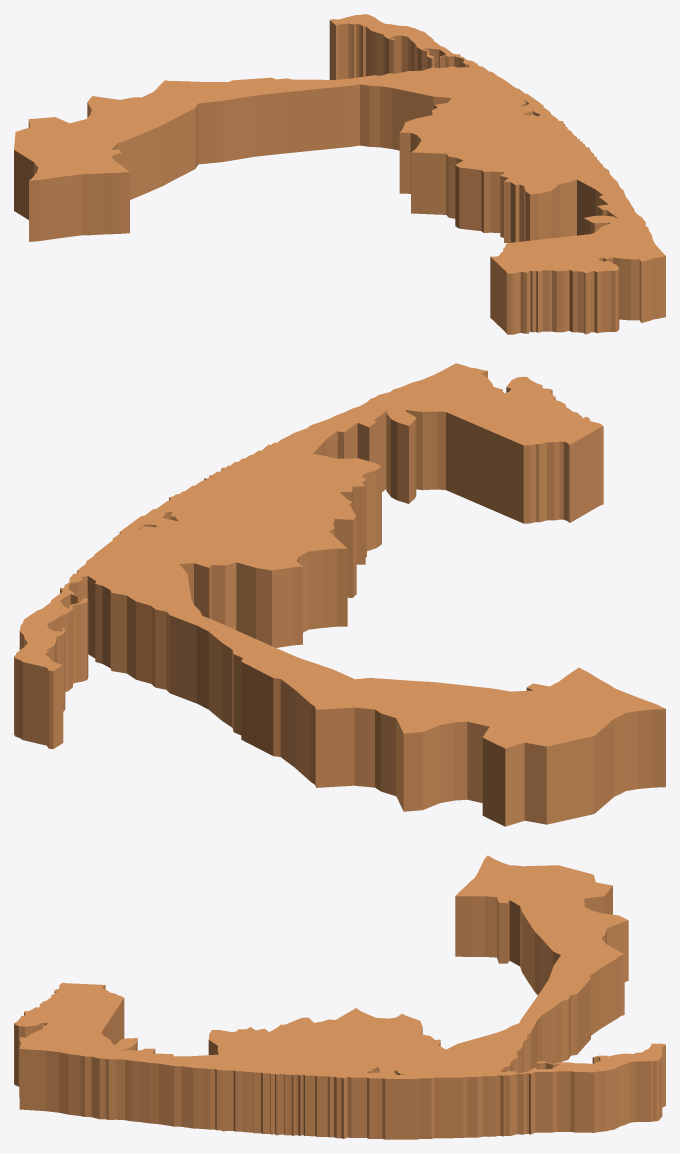
Rendered from monmouth.glb.
The picture shows the model from 3 angles, top to bottom: view 1: azimuth 30°, elevation 25°; view 2: azimuth 150°, elevation 25°; view 3: azimuth 270°, elevation 25°; orthographic projection. The views are drawn at different scales.
Parts seen in each view (by area): view 1: Plane.004; view 2: Plane.004; view 3: Plane.004.
Part boxes in pixels (x1,y1,x2,y2): Plane.004: (14, 14, 665, 334); Plane.004: (14, 363, 665, 826); Plane.004: (14, 855, 665, 1139).
Bounding box in the file's own units: 3.05 × 0.3856 × 3.76.
